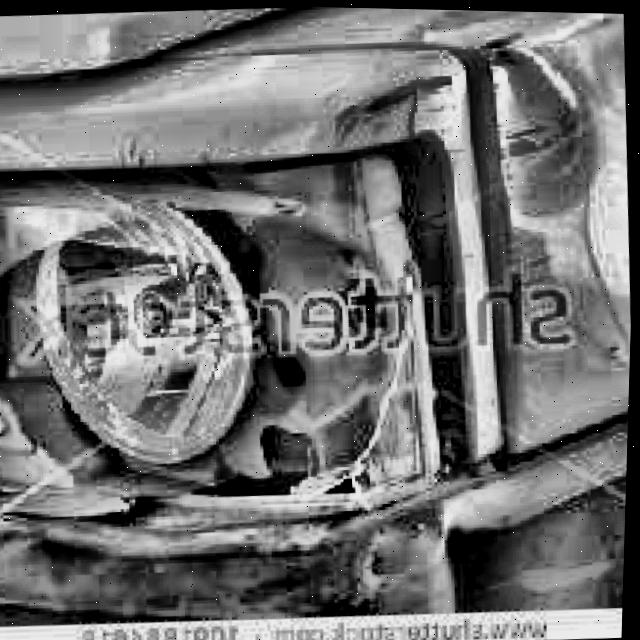head_lamp: (0, 152, 452, 511)
